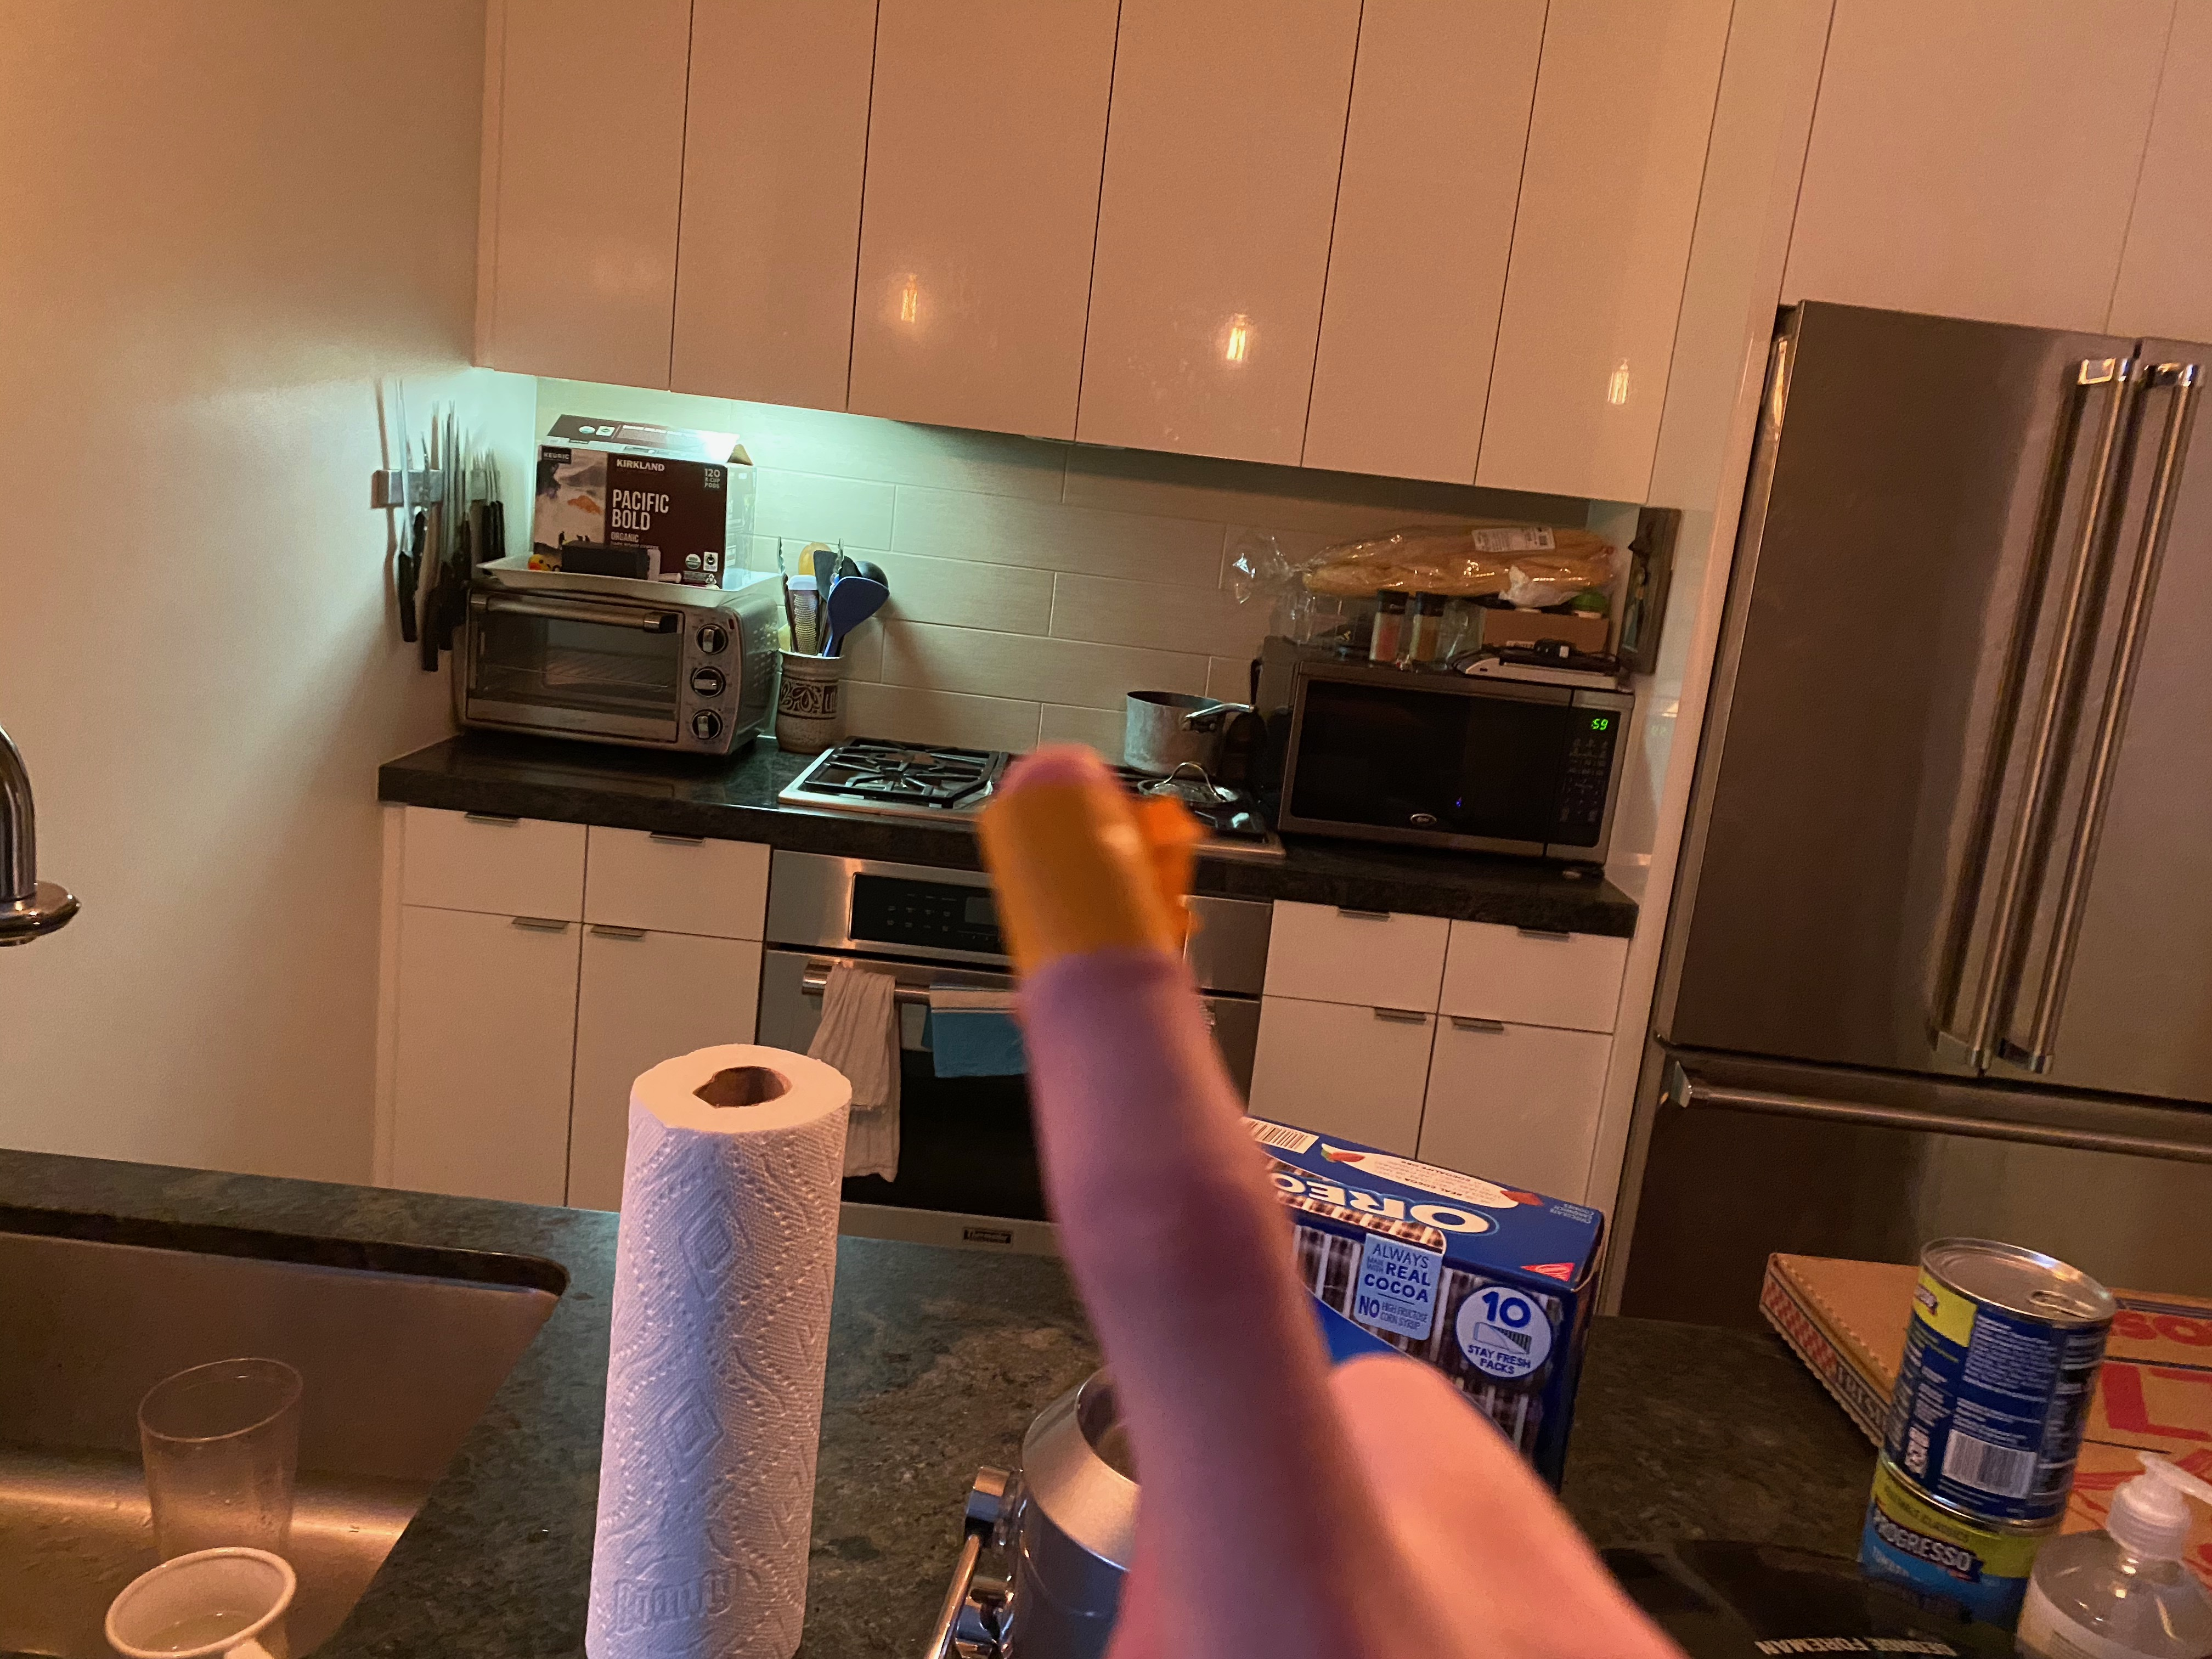fingertip: (982, 742, 1223, 1026)
